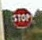stop: (11, 7, 32, 28)
